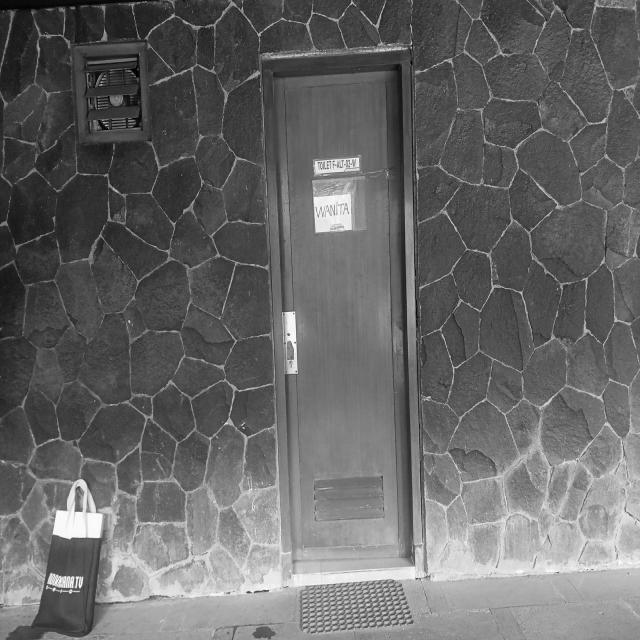door: (262, 57, 425, 574)
